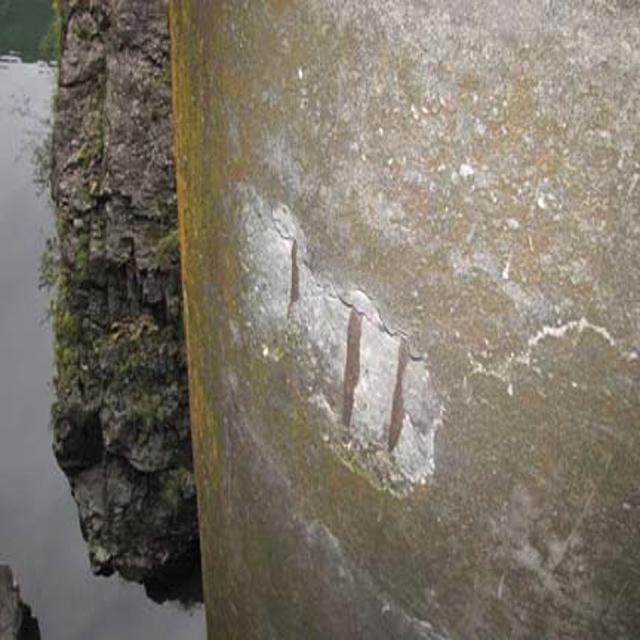spalling: (228, 192, 468, 518)
